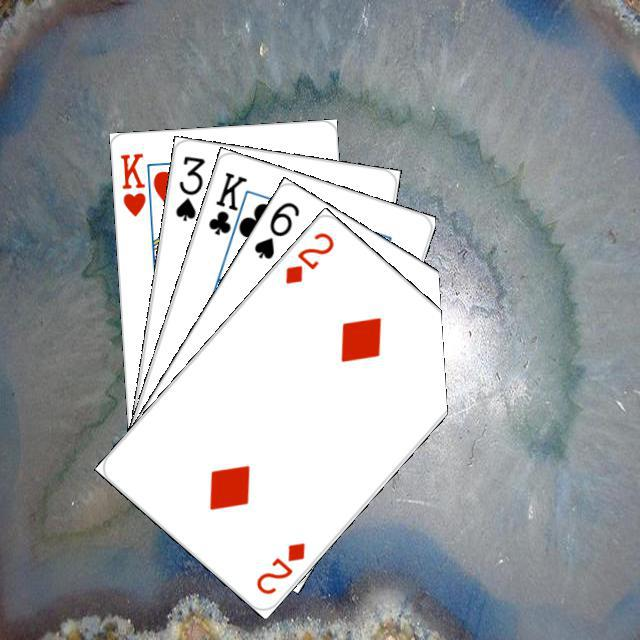2d: (279, 227, 336, 286), (251, 537, 307, 597)
3s: (170, 151, 207, 223)
6s: (249, 196, 302, 261)
Kc: (203, 167, 252, 248)
Kh: (115, 148, 154, 224)
